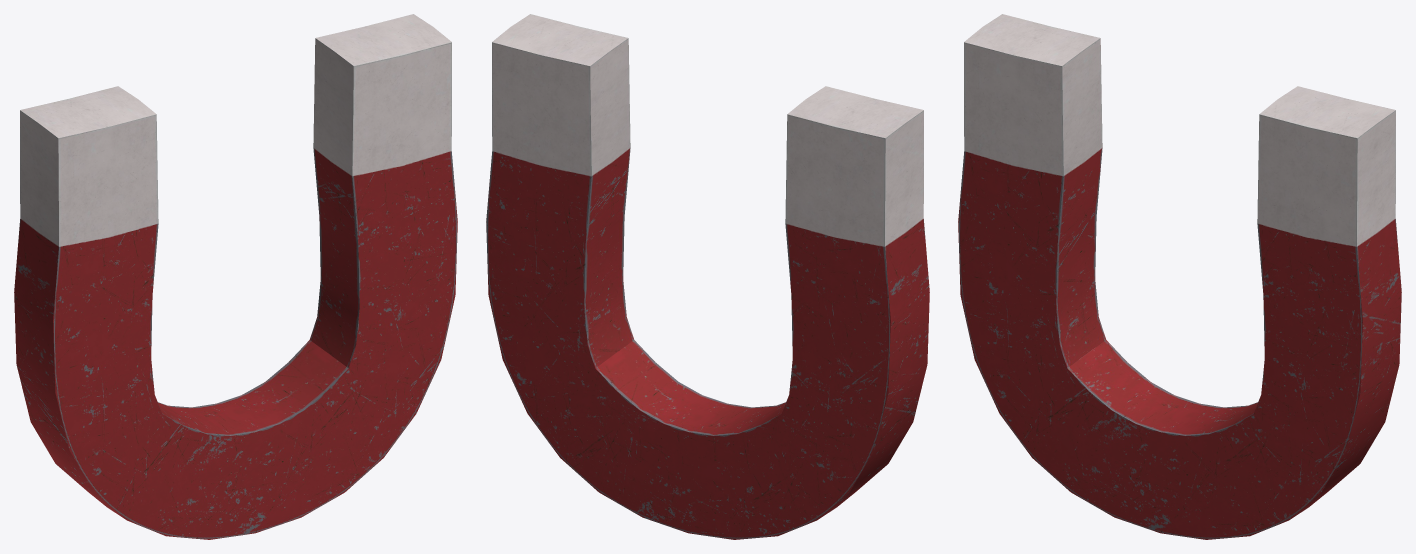
The model's file is Magnet.fbx.
3 views of the same model, side by side, from view 1: azimuth 30°, elevation 25°; view 2: azimuth 150°, elevation 25°; view 3: azimuth 330°, elevation 25° (orthographic).
Parts seen in each view (by area): view 1: magnet_0; view 2: magnet_0; view 3: magnet_0.
Part boxes in pixels (x1,y1,x2,y2): magnet_0: (14,14,457,539); magnet_0: (486,14,929,539); magnet_0: (958,14,1401,539).
Bounding box in the file's own units: 303 × 316 × 51.23.
